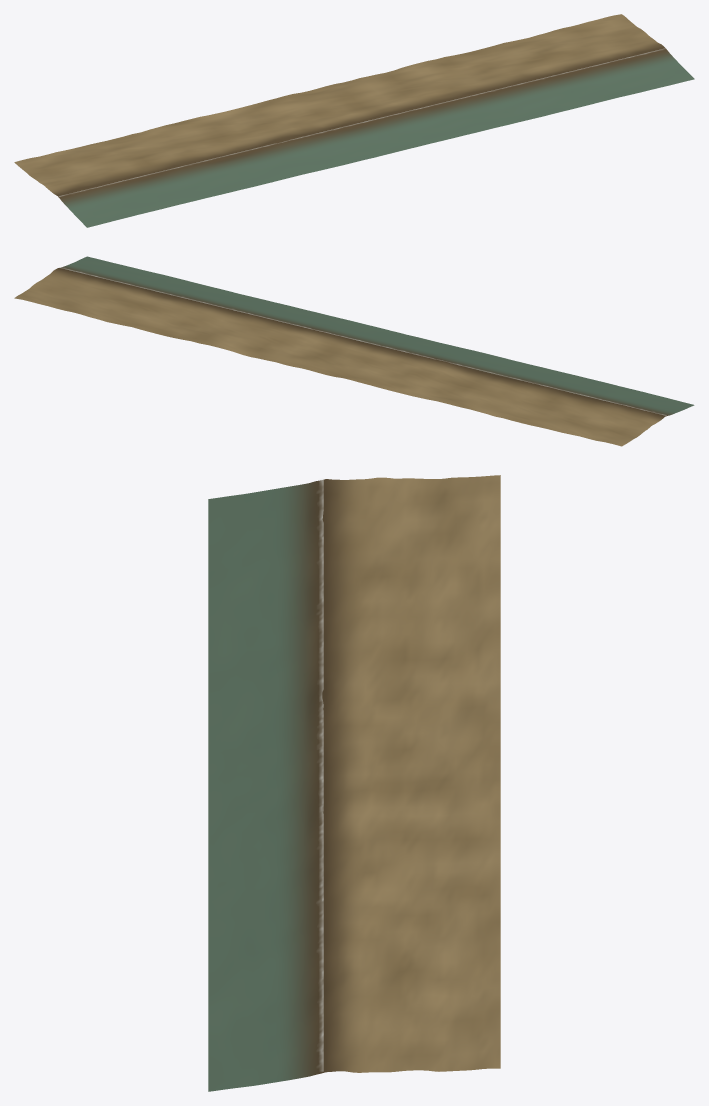
File: beach.glb
3 renders of one model, top to bottom at view 1: azimuth 30°, elevation 25°; view 2: azimuth 150°, elevation 25°; view 3: azimuth 270°, elevation 25°, orthographic. The views are drawn at different scales.
Parts seen in each view (by area): view 1: beach_sand, beach_foam; view 2: beach_sand, beach_foam; view 3: beach_sand, beach_foam.
Part boxes in pixels (x1,y1,x2,y2): beach_sand: (14, 14, 694, 227); beach_foam: (58, 48, 666, 196); beach_sand: (14, 256, 694, 446); beach_foam: (59, 267, 666, 415); beach_sand: (208, 475, 500, 1091); beach_foam: (319, 478, 323, 1071).
Size of the model in its own units: 7.2 by 0.1426 by 1.5.
